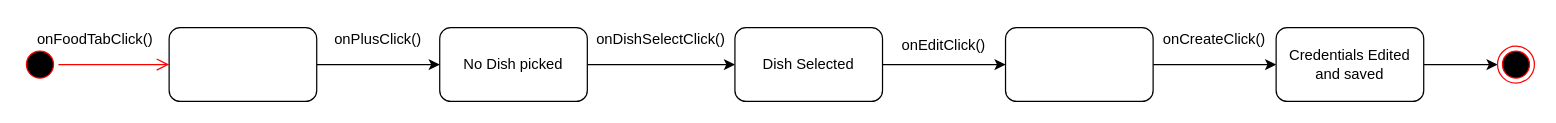
The diagram is 1556 pixels wide and 123 high, and some of its shapes have lost their labels. Here are the shapes that lost their labels. From the top down, the centre of each, then its label:
point (242, 63): No food credentials edited
point (1078, 63): Credentials Edited
